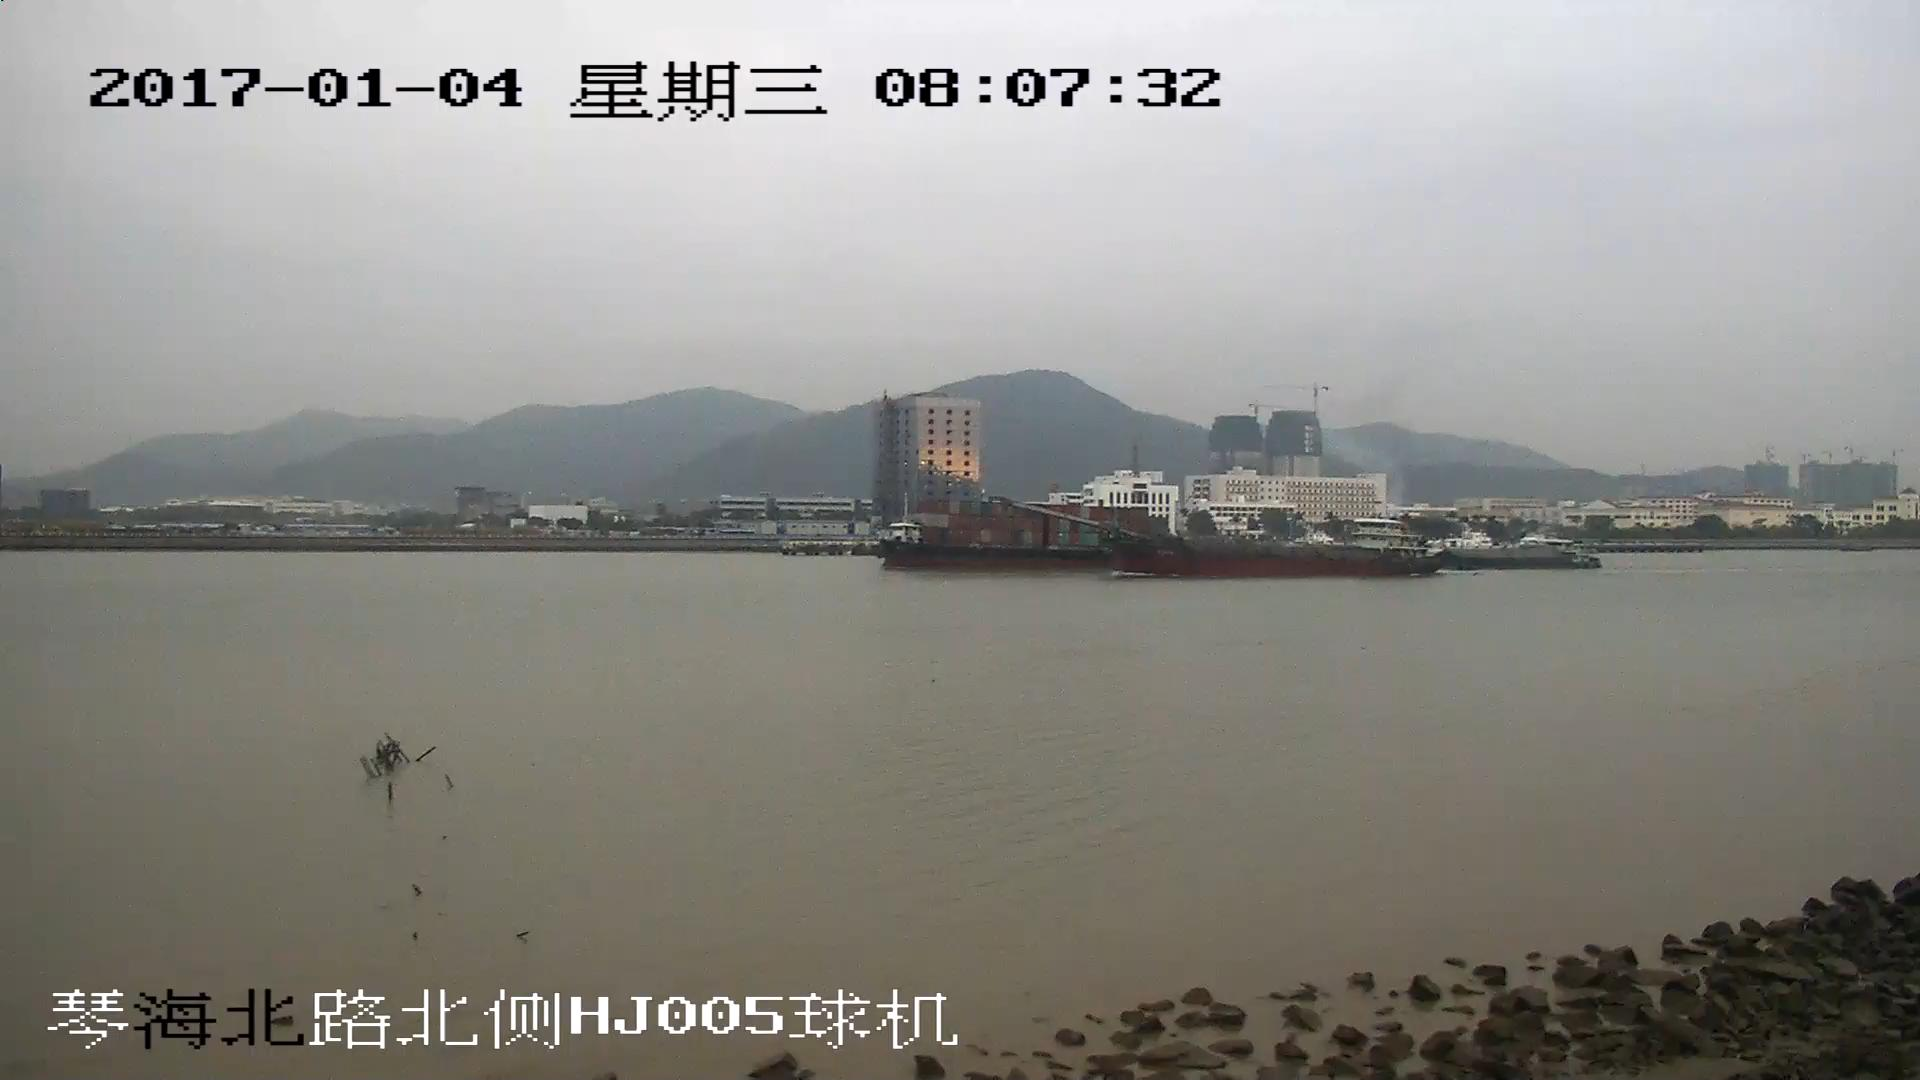bulk cargo carrier: (1019, 500, 1426, 573)
container ship: (879, 498, 1040, 558)
general cargo ship: (1440, 543, 1600, 570)
